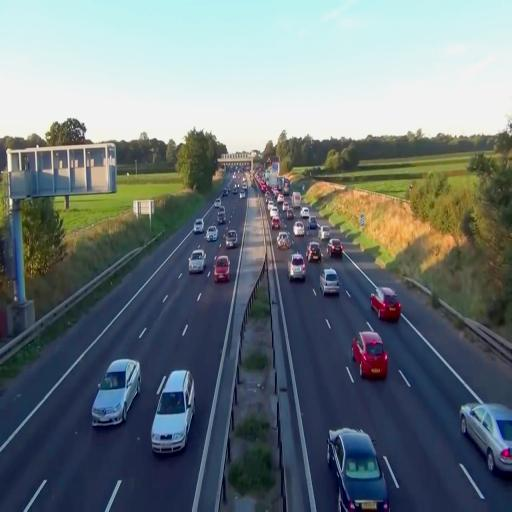vehicle: (327, 426, 390, 510), (150, 369, 196, 456), (460, 401, 512, 477), (91, 358, 141, 427), (352, 328, 388, 379), (370, 286, 402, 323), (320, 267, 340, 298), (288, 253, 306, 282), (213, 254, 231, 283), (188, 248, 206, 274), (307, 242, 323, 266), (328, 239, 343, 260), (224, 229, 239, 249), (276, 230, 290, 250), (269, 208, 280, 229), (294, 219, 306, 238), (193, 219, 203, 233)
